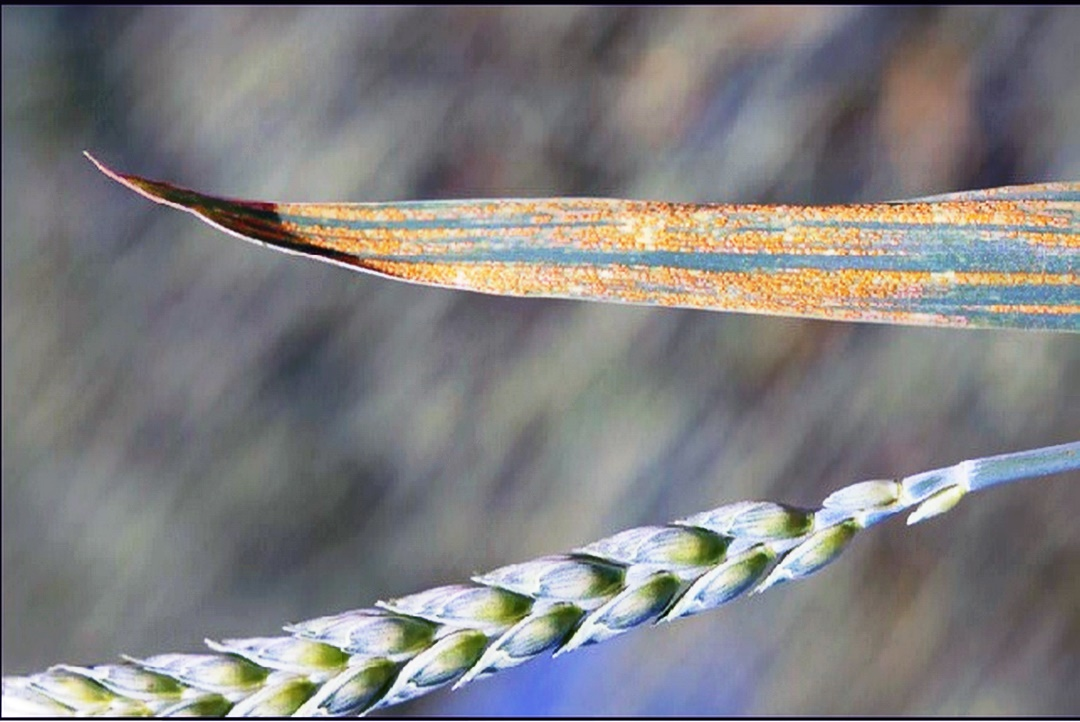Leaf Rust: (263, 166, 1047, 345)
